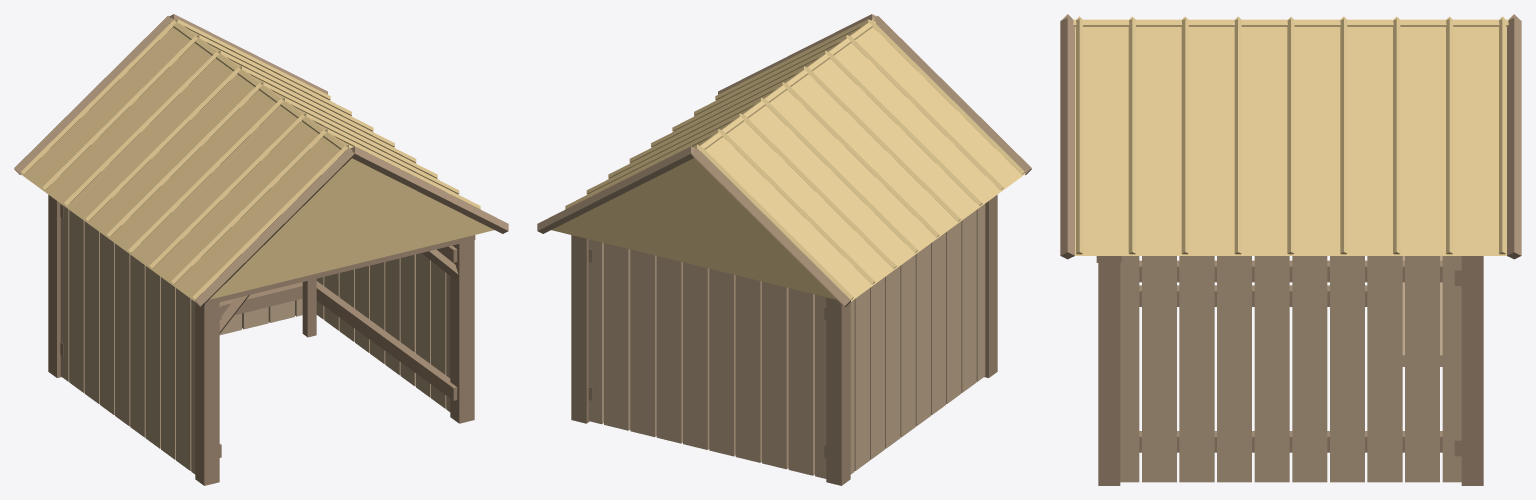
File: shed.glb
3 renders of one model, left to right at view 1: azimuth 30°, elevation 25°; view 2: azimuth 150°, elevation 25°; view 3: azimuth 270°, elevation 25°, orthographic. The views are drawn at different scales.
Parts seen in each view (by area): view 1: shed_roof, shed_wood, shed_frame; view 2: shed_roof, shed_wood, shed_frame; view 3: shed_roof, shed_wood, shed_frame.
Boxes of the visible parts, x1,y1,x2,y2 form: shed_roof: [20, 18, 494, 301]; shed_wood: [60, 204, 450, 474]; shed_frame: [14, 14, 508, 485]; shed_roof: [551, 18, 1025, 301]; shed_wood: [588, 204, 985, 478]; shed_frame: [537, 14, 1031, 485]; shed_roof: [1072, 16, 1509, 255]; shed_wood: [1120, 256, 1461, 482]; shed_frame: [1060, 14, 1521, 485].
Bounding box in the file's own units: 0.9514 × 0.9127 × 0.9813.
